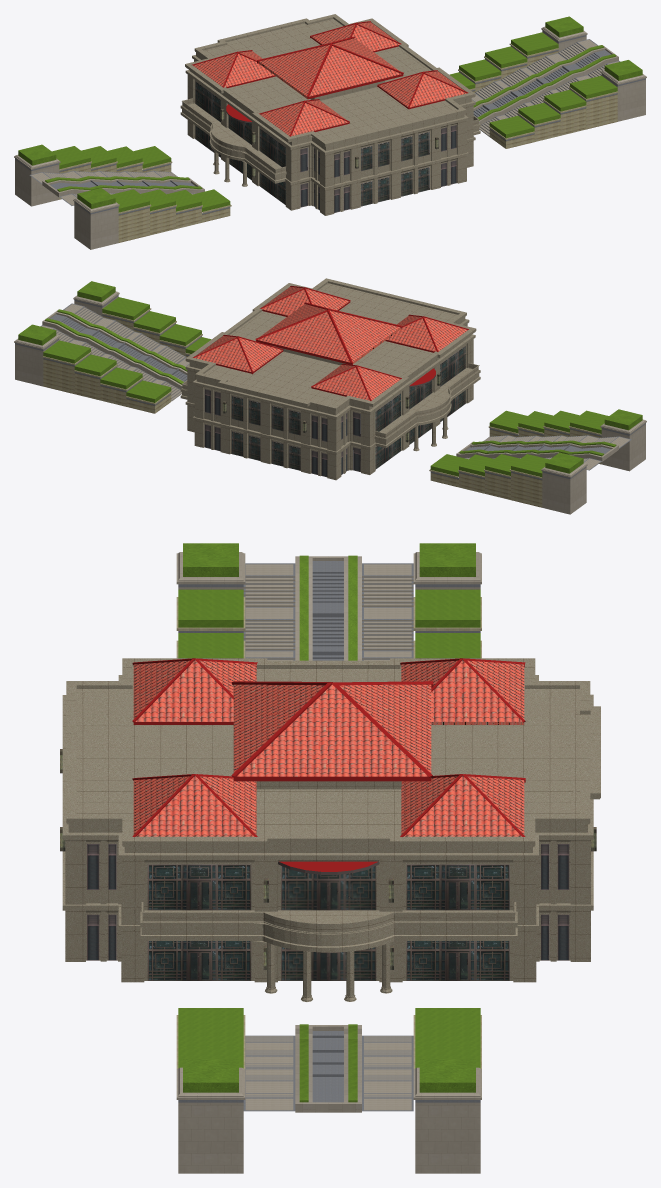
The model's file is club.FBX.
3 renders of one model, top to bottom at view 1: azimuth 30°, elevation 25°; view 2: azimuth 150°, elevation 25°; view 3: azimuth 270°, elevation 25°, orthographic. The views are drawn at different scales.
Parts seen in each view (by area): view 1: 对象003, club, club001; view 2: 对象003, club, club001; view 3: 对象003, club, club001.
Boxes of the visible parts, bbox=[...] form: 对象003: bbox=[180, 14, 480, 215]; club: bbox=[449, 16, 646, 148]; club001: bbox=[14, 144, 231, 249]; 对象003: bbox=[180, 278, 480, 480]; club: bbox=[14, 281, 211, 413]; club001: bbox=[429, 409, 646, 514]; 对象003: bbox=[60, 658, 600, 1001]; club: bbox=[176, 1008, 481, 1173]; club001: bbox=[176, 543, 481, 660].
Bounding box in the file's own units: 74721 × 14131 × 31258.
